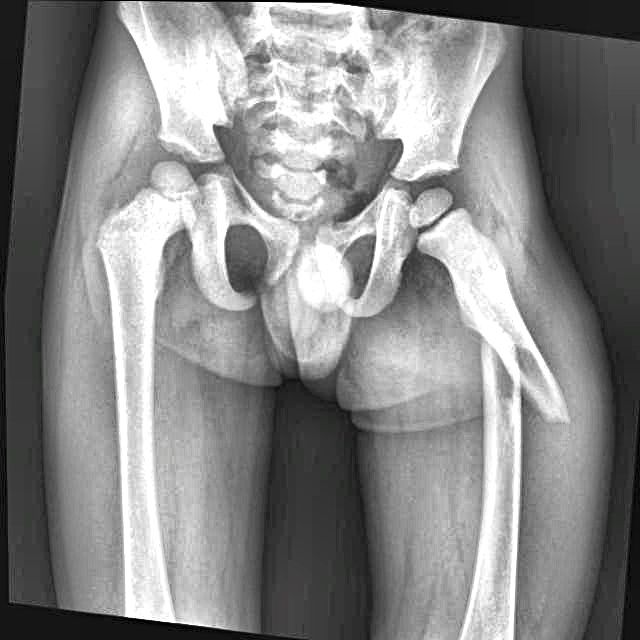Oblique: (454, 304, 576, 449)
